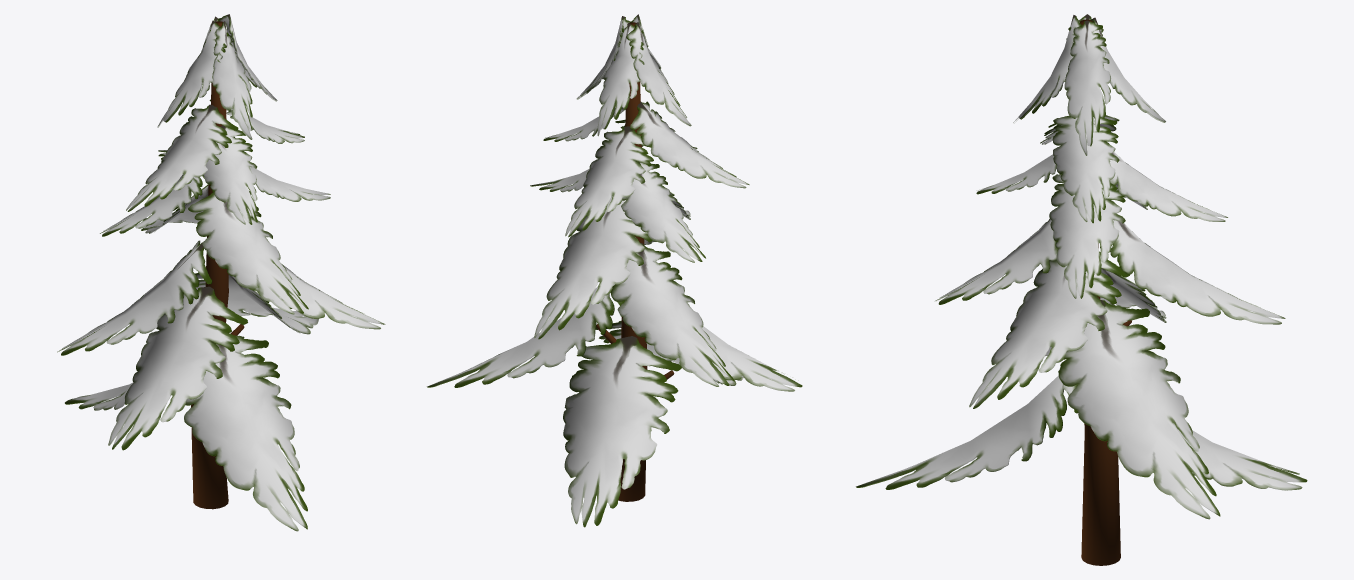
File: f_tree_02.fbx
3 views of the same model, side by side, from view 1: azimuth 30°, elevation 25°; view 2: azimuth 150°, elevation 25°; view 3: azimuth 270°, elevation 25° (orthographic). The views are drawn at different scales.
Visible parts, largest first — view 1: f_tree_02; view 2: f_tree_02; view 3: f_tree_02.
Part boxes in pixels (<box>): f_tree_02: <box>57,14,385,531</box>; f_tree_02: <box>427,14,802,527</box>; f_tree_02: <box>856,14,1307,565</box>.
Bounding box in the file's own units: 377 × 503 × 411.
